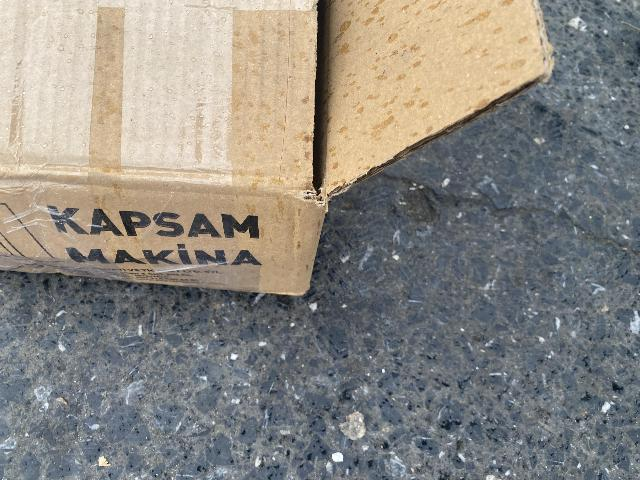Kagit: (0, 0, 556, 298)
